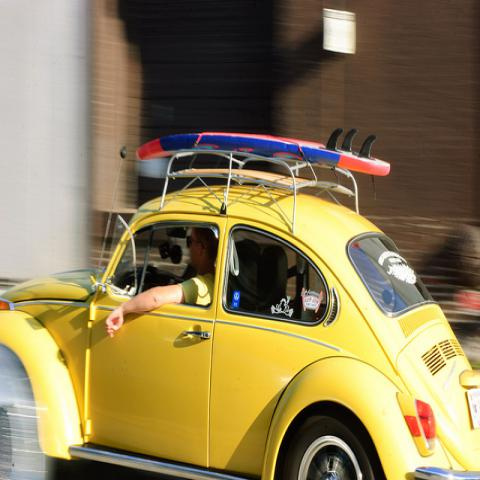car: (2, 149, 480, 473)
